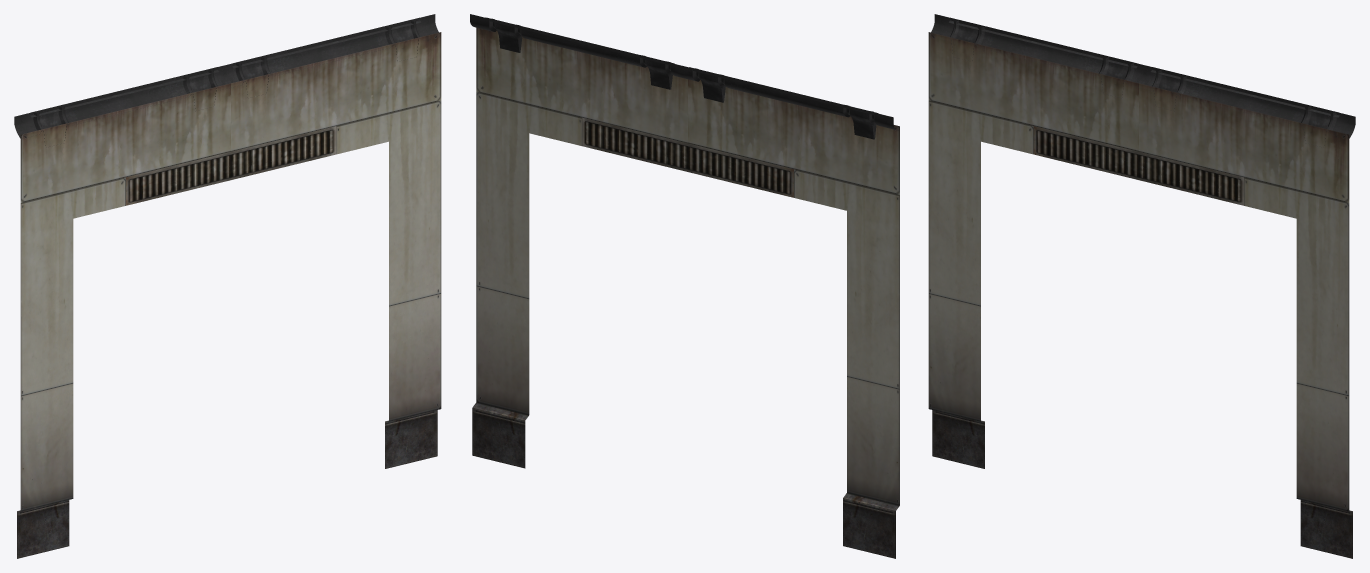
The model's file is lab_doorway_large.dae.
3 views of the same model, side by side, from view 1: azimuth 30°, elevation 25°; view 2: azimuth 150°, elevation 25°; view 3: azimuth 330°, elevation 25° (orthographic).
Visible parts, largest first — view 1: lab_doorway_large; view 2: lab_doorway_large; view 3: lab_doorway_large.
Boxes of the visible parts, x1,y1,x2,y2 form: lab_doorway_large: (14, 14, 441, 558); lab_doorway_large: (470, 14, 899, 558); lab_doorway_large: (928, 14, 1355, 558).
Bounding box in the file's own units: 4 × 4 × 0.1056.
